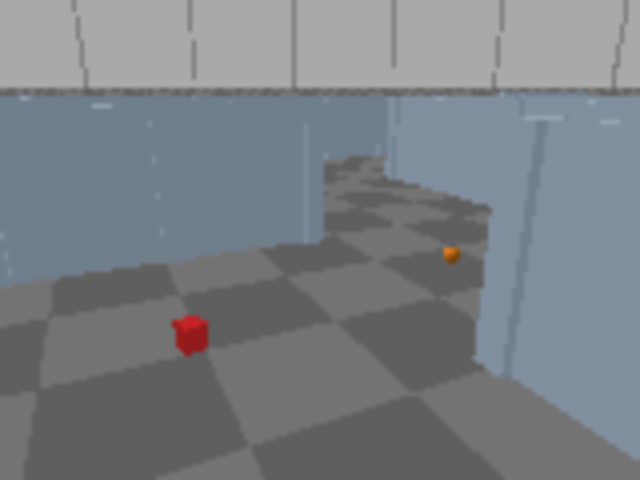puck: (173, 314, 210, 356), (438, 243, 466, 268)
